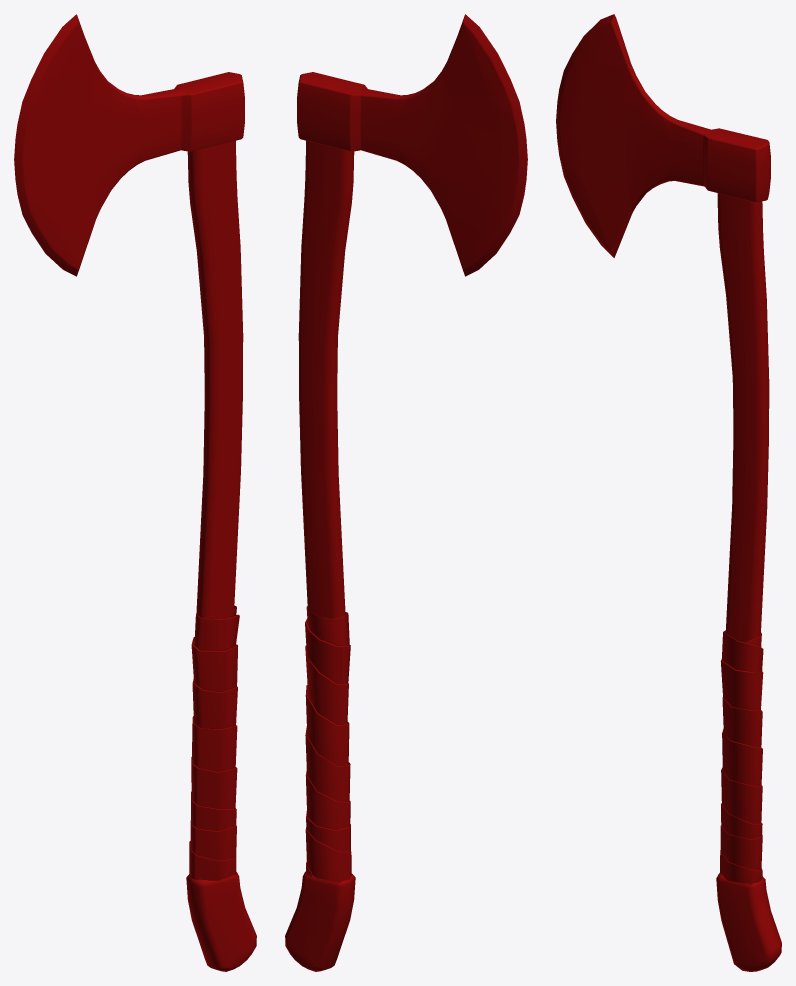
File: SM_Two_Handed_Axe.gltf
3 renders of one model, left to right at view 1: azimuth 30°, elevation 25°; view 2: azimuth 150°, elevation 25°; view 3: azimuth 330°, elevation 25°, orthographic. The views are drawn at different scales.
Parts seen in each view (by area): view 1: SM_Two_Handed_Axe; view 2: SM_Two_Handed_Axe; view 3: SM_Two_Handed_Axe.
Boxes of the visible parts, bbox=[...] form: SM_Two_Handed_Axe: bbox=[14, 14, 256, 971]; SM_Two_Handed_Axe: bbox=[285, 14, 527, 971]; SM_Two_Handed_Axe: bbox=[556, 14, 781, 971].
Size of the model in its own units: 0.3198 by 1.27 by 0.0442.
